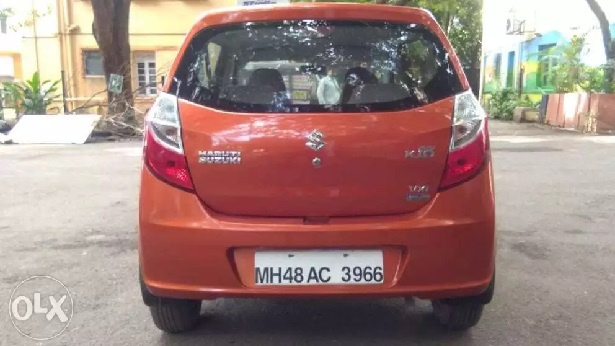licenseplate: (253, 247, 389, 287)
